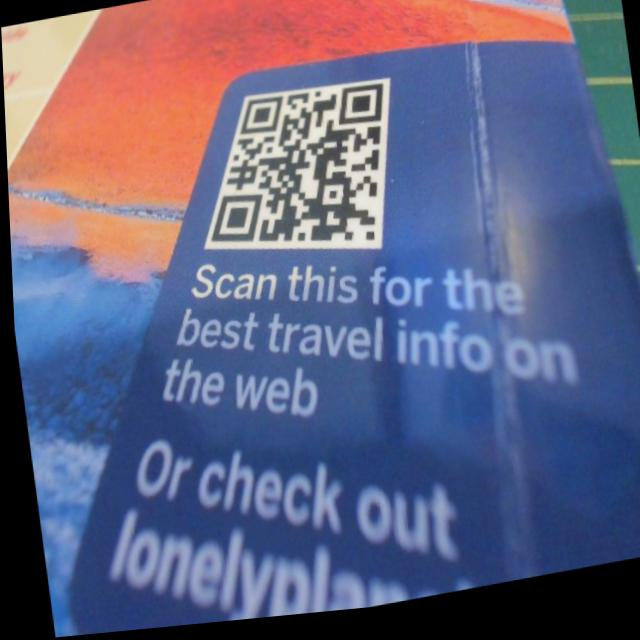QR_CODE: (182, 59, 413, 288)
